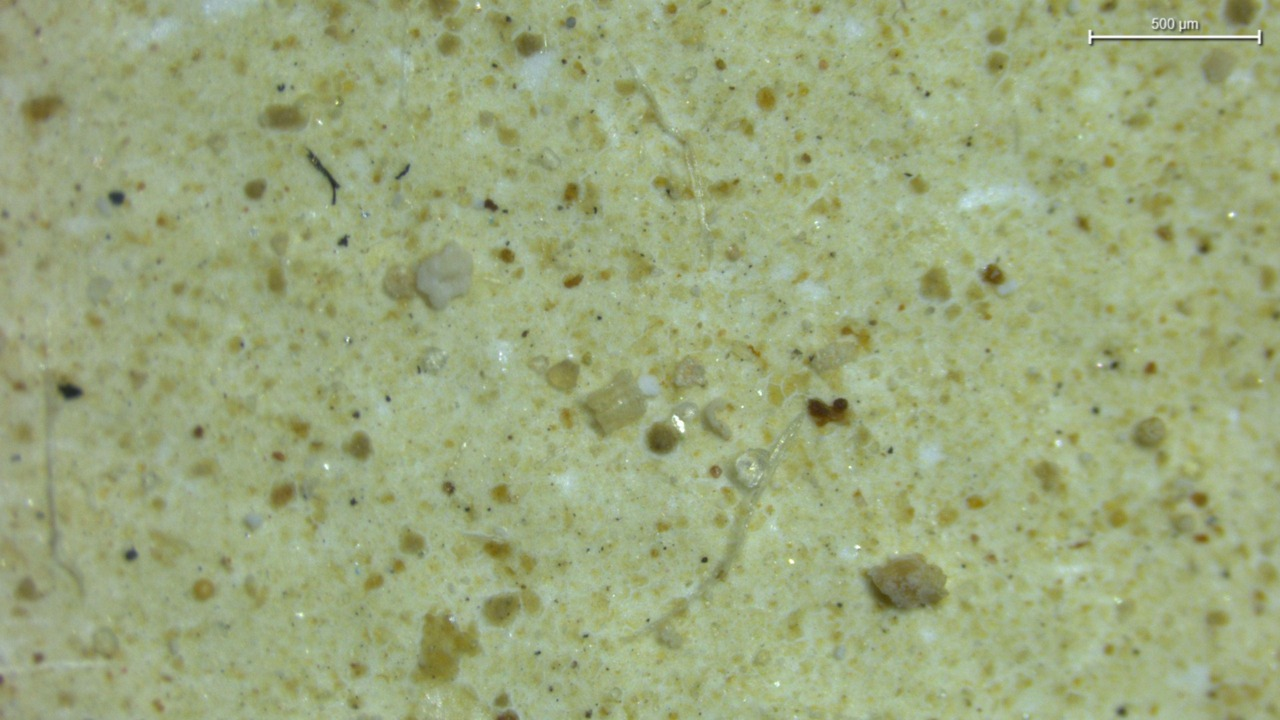microplastic_fragment: (866, 554, 946, 608), (583, 370, 647, 435), (415, 242, 472, 309), (735, 449, 768, 488), (546, 359, 580, 392), (674, 356, 706, 387)
